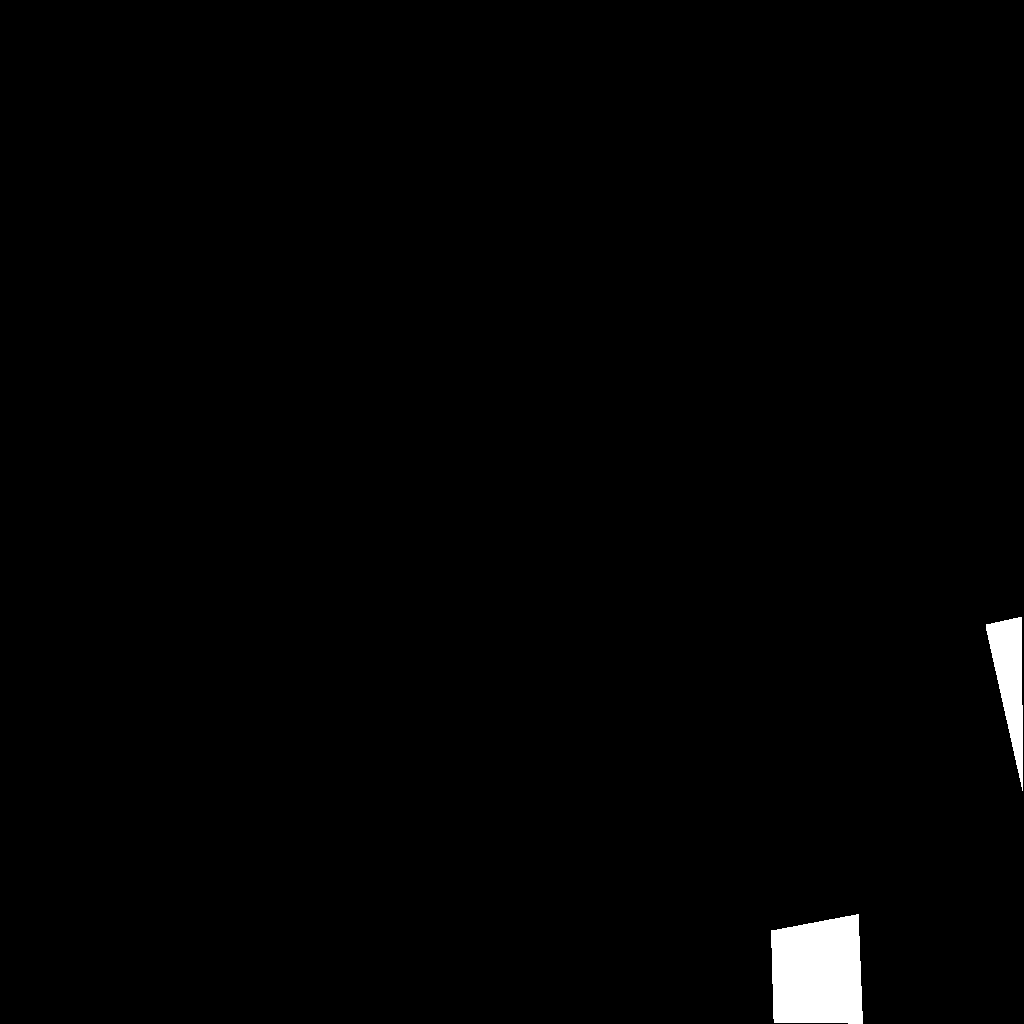building: (771, 914, 864, 1024), (986, 617, 1024, 794)
